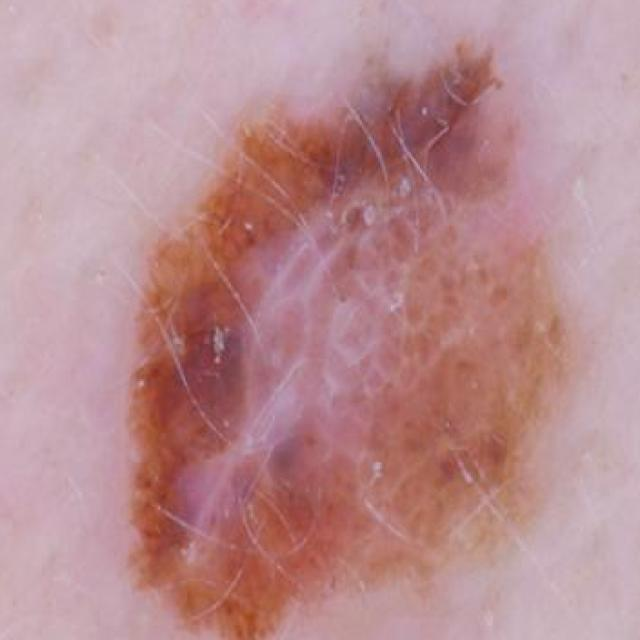MEL: (100, 24, 573, 640)
